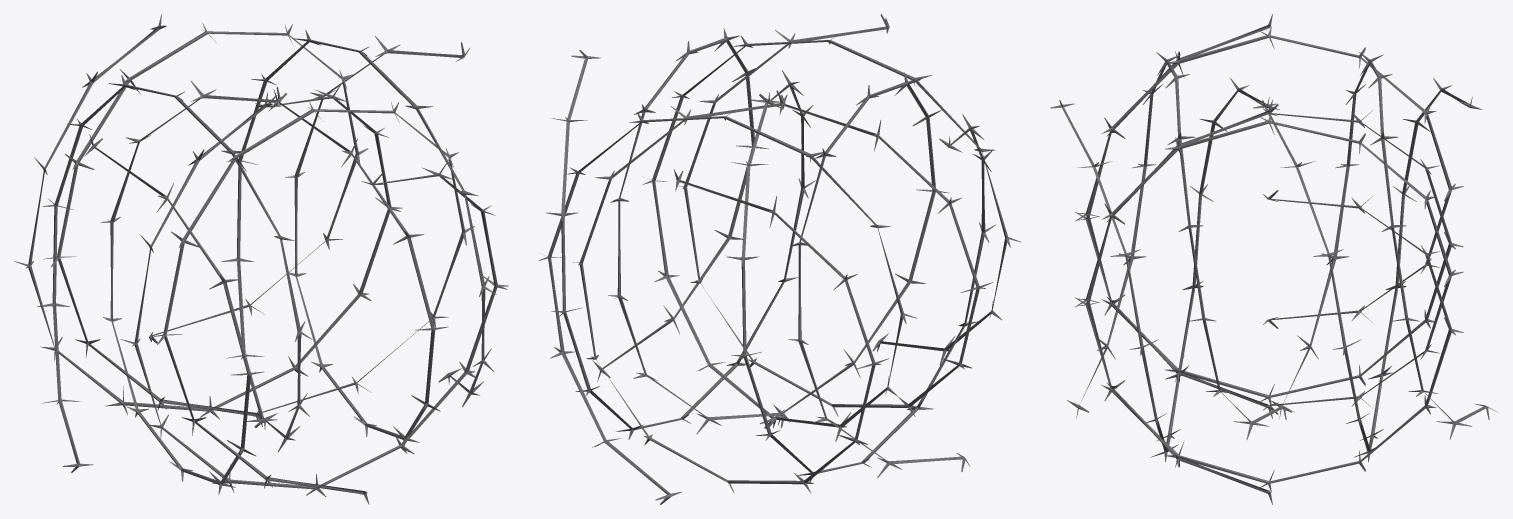
File: Barbed_Wire_001.fbx
The picture shows the model from 3 angles, left to right: view 1: azimuth 30°, elevation 25°; view 2: azimuth 150°, elevation 25°; view 3: azimuth 270°, elevation 25°; orthographic projection. The views are drawn at different scales.
Parts seen in each view (by area): view 1: Barbed Wire.001; view 2: Barbed Wire.001; view 3: Barbed Wire.001.
Boxes of the visible parts, x1,y1,x2,y2 form: Barbed Wire.001: [14, 14, 508, 504]; Barbed Wire.001: [538, 14, 1021, 504]; Barbed Wire.001: [1050, 14, 1497, 504].
Bounding box in the file's own units: 247 × 226 × 247.
